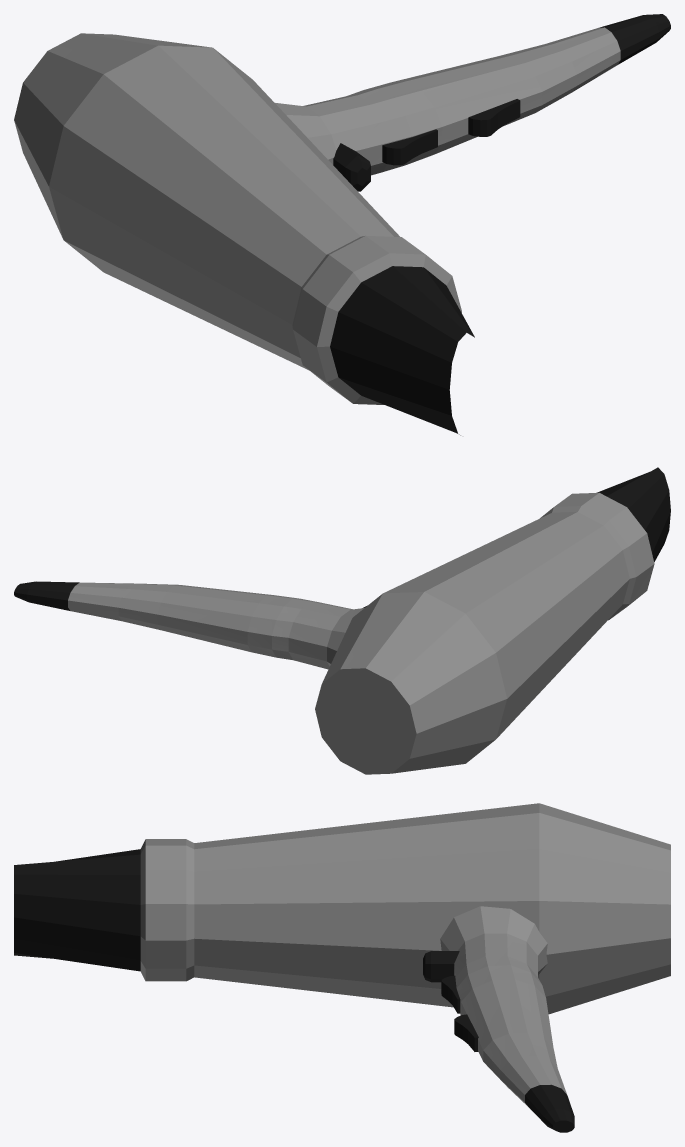
Rendered from Hair Dryer.glb.
3 renders of one model, top to bottom at view 1: azimuth 30°, elevation 25°; view 2: azimuth 150°, elevation 25°; view 3: azimuth 270°, elevation 25°, orthographic. The views are drawn at different scales.
Visible parts, largest first — view 1: hair_dryer; view 2: hair_dryer; view 3: hair_dryer.
Boxes of the visible parts, left/top/right/bottom form: hair_dryer: left=14, top=14, right=670, bottom=435; hair_dryer: left=14, top=467, right=670, bottom=774; hair_dryer: left=14, top=803, right=670, bottom=1132.
Bounding box in the file's own units: 0.1669 × 0.0579 × 0.1769.
1 material, 1 textured.
